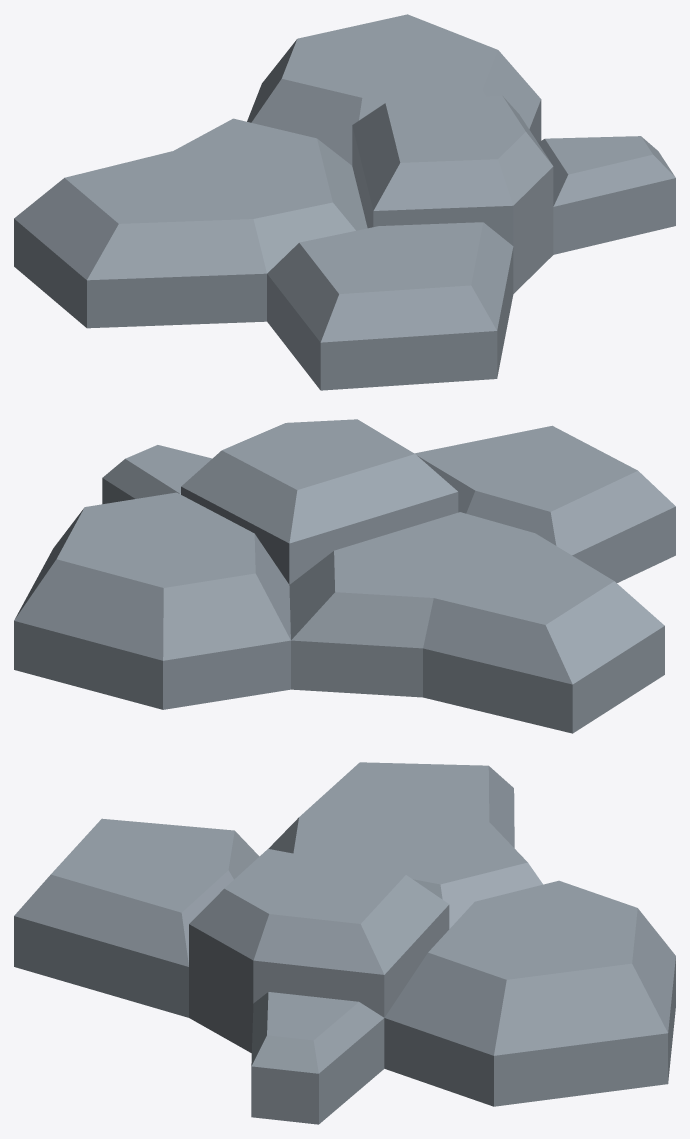
Rendered from Rock2.fbx.
3 renders of one model, top to bottom at view 1: azimuth 30°, elevation 25°; view 2: azimuth 150°, elevation 25°; view 3: azimuth 270°, elevation 25°, orthographic. The views are drawn at different scales.
Visible parts, largest first — view 1: Rock2; view 2: Rock2; view 3: Rock2.
Boxes of the visible parts, x1,y1,x2,y2 form: Rock2: [14, 14, 675, 390]; Rock2: [14, 419, 675, 733]; Rock2: [14, 762, 675, 1124].
Size of the model in its own units: 150 by 31.4 by 145.
